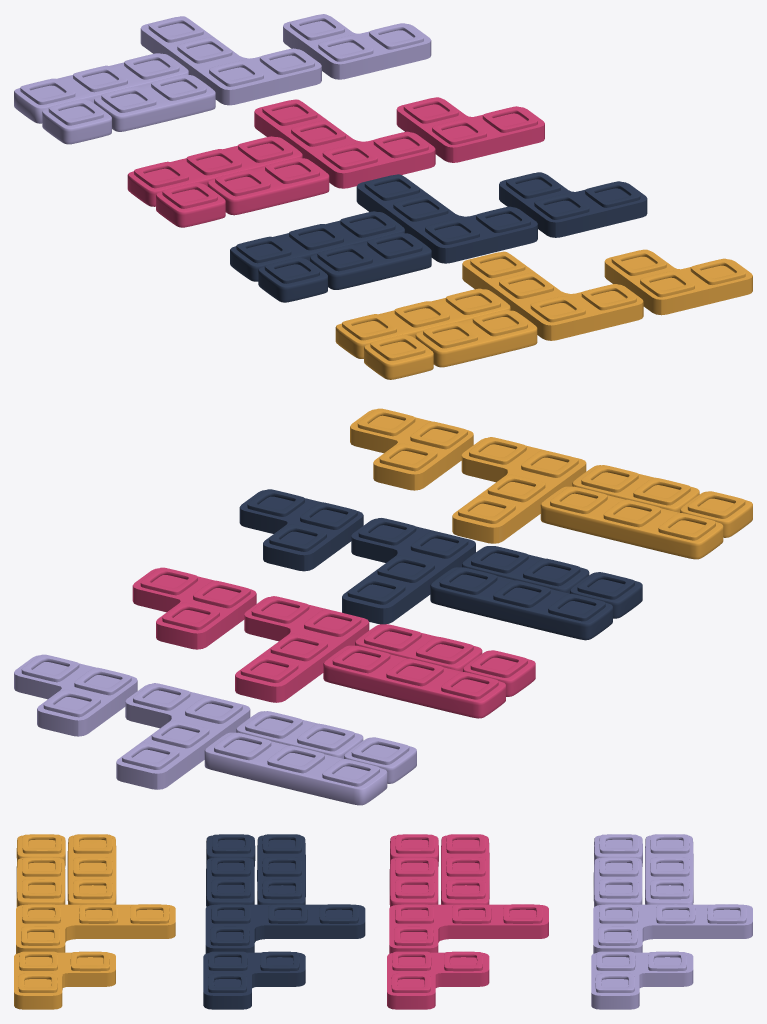
Rendered from Blocky Out_Thuong.fbx.
3 views of the same model, one above another, from view 1: azimuth 30°, elevation 25°; view 2: azimuth 150°, elevation 25°; view 3: azimuth 270°, elevation 25° (orthographic). The views are drawn at different scales.
Visible parts, largest first — view 1: Blv.003, Blx.002, Blt.003, Blh.003, Blt.001, Blv.001, Blh.001, Blx.001, Blt.004, Blv, Blx.004, Blh.004 (+8 smaller); view 2: Blt.003, Blv.003, Blh.003, Blx.002, Blt.004, Blv, Blh.004, Blx.004, Blh.001, Blx.001, Blt.001, Blv.001 (+8 smaller); view 3: Blx.002, Blt.003, Blh.003, Blv.003, Blx.001, Blh.001, Blt.001, Blv.001, Blv, Blx.004, Blt.004, Blh.004 (+8 smaller).
Boxes of the visible parts, x1=… form: Blv.003: x1=462, y1=251, x2=643, y2=340; Blx.002: x1=356, y1=174, x2=537, y2=263; Blt.003: x1=140, y1=16, x2=321, y2=105; Blh.003: x1=254, y1=99, x2=435, y2=188; Blt.001: x1=283, y1=14, x2=431, y2=79; Blv.001: x1=604, y1=249, x2=752, y2=315; Blh.001: x1=396, y1=97, x2=544, y2=162; Blx.001: x1=499, y1=172, x2=647, y2=237; Blt.004: x1=14, y1=53, x2=188, y2=123; Blv: x1=335, y1=288, x2=510, y2=358; Blx.004: x1=230, y1=211, x2=404, y2=281; Blh.004: x1=127, y1=136, x2=302, y2=206; Blt.003: x1=116, y1=683, x2=250, y2=789; Blv.003: x1=452, y1=437, x2=586, y2=543; Blh.003: x1=235, y1=596, x2=369, y2=702; Blx.002: x1=342, y1=518, x2=475, y2=624; Blt.004: x1=204, y1=732, x2=387, y2=805; Blv: x1=540, y1=486, x2=723, y2=559; Blh.004: x1=323, y1=645, x2=505, y2=718; Blx.004: x1=430, y1=567, x2=612, y2=640; Blh.001: x1=132, y1=567, x2=256, y2=649; Blx.001: x1=239, y1=489, x2=363, y2=571; Blt.001: x1=14, y1=654, x2=137, y2=736; Blv.001: x1=350, y1=408, x2=473, y2=490; Blx.002: x1=205, y1=904, x2=365, y2=953; Blt.003: x1=593, y1=904, x2=752, y2=953; Blh.003: x1=389, y1=904, x2=548, y2=953; Blv.003: x1=16, y1=904, x2=175, y2=953; Blx.001: x1=203, y1=951, x2=305, y2=1009; Blh.001: x1=387, y1=951, x2=489, y2=1009; Blt.001: x1=591, y1=951, x2=693, y2=1009; Blv.001: x1=14, y1=951, x2=115, y2=1009; Blv: x1=67, y1=834, x2=116, y2=904; Blx.004: x1=257, y1=834, x2=305, y2=904; Blt.004: x1=645, y1=834, x2=693, y2=904; Blh.004: x1=441, y1=834, x2=489, y2=904.
Bounding box in the file's own units: 14.59 × 28.32 × 0.7286.
1 material, 1 textured.
